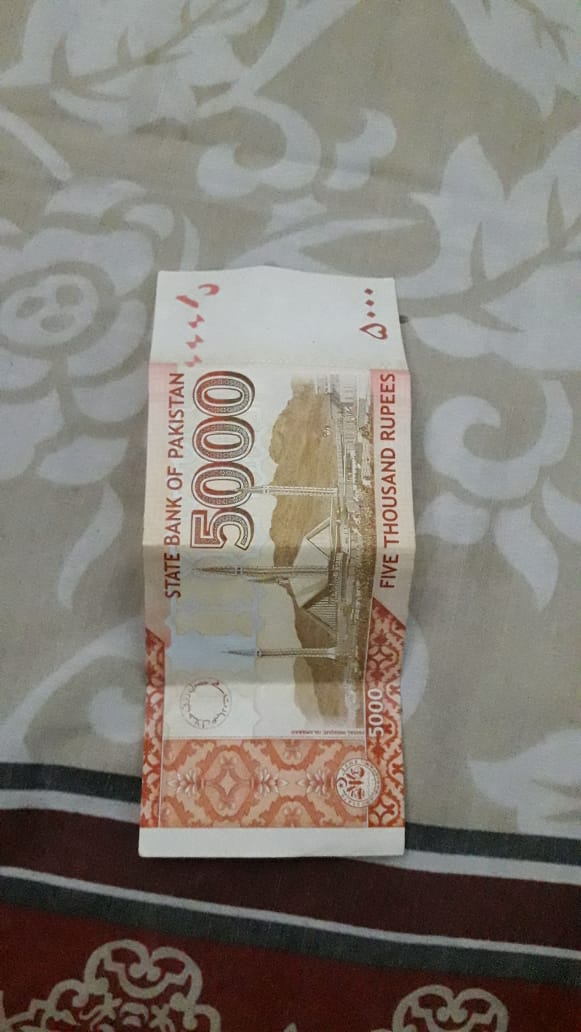5000 rupee: (110, 257, 442, 870)
